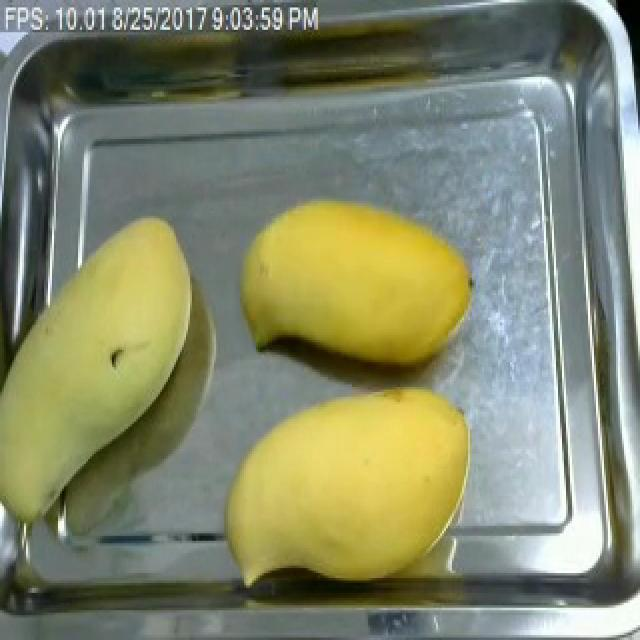fruit: (0, 201, 206, 533), (210, 372, 484, 598), (226, 181, 482, 382)
